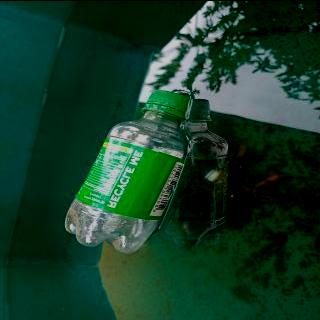bottle: (60, 88, 192, 254)
